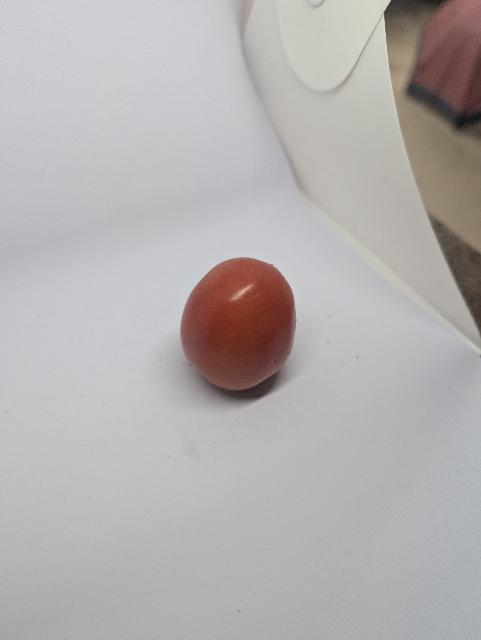red: (178, 244, 302, 407)
